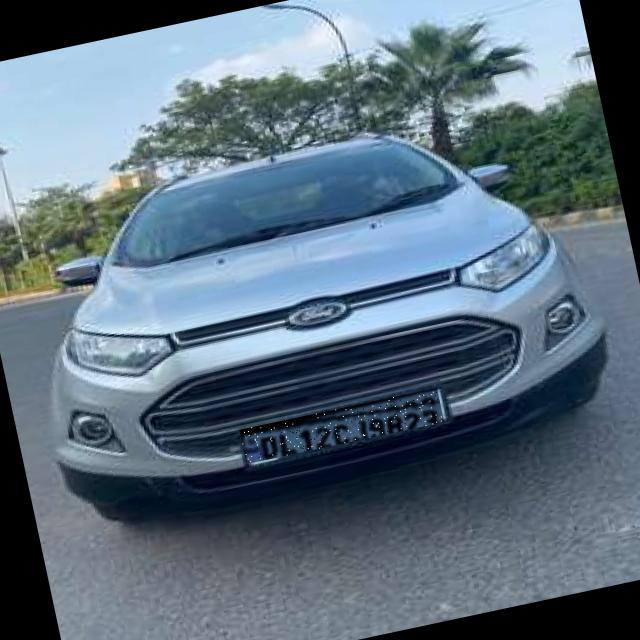Plate: (240, 389, 445, 465)
